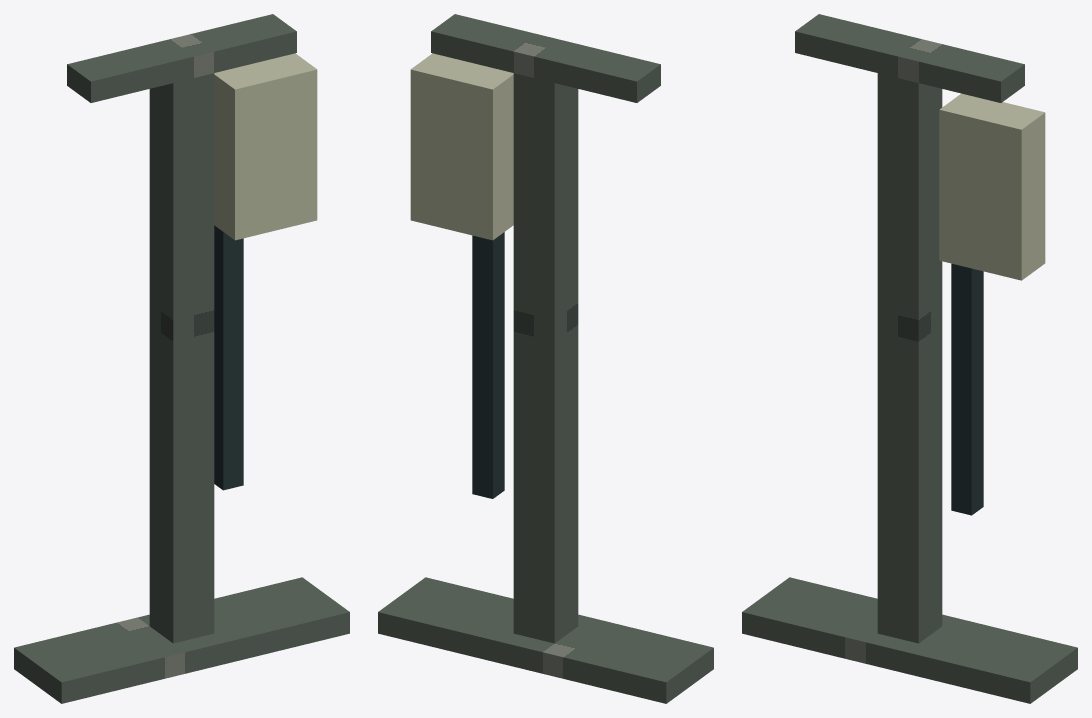
The model's file is iv_stand.gltf.
3 views of the same model, side by side, from view 1: azimuth 30°, elevation 25°; view 2: azimuth 150°, elevation 25°; view 3: azimuth 330°, elevation 25° (orthographic).
Visible parts, largest first — view 1: post, base, bag, hook, tube; view 2: post, base, bag, hook, tube; view 3: post, base, bag, hook, tube.
Part boxes in pixels (x1=…): post: x1=149, y1=73, x2=214, y2=643; base: x1=14, y1=577, x2=349, y2=703; bag: x1=214, y1=53, x2=317, y2=240; hook: x1=67, y1=14, x2=296, y2=102; tube: x1=214, y1=225, x2=243, y2=490; post: x1=513, y1=73, x2=578, y2=643; base: x1=378, y1=577, x2=713, y2=703; bag: x1=410, y1=53, x2=513, y2=240; hook: x1=431, y1=14, x2=660, y2=102; tube: x1=472, y1=232, x2=504, y2=498; post: x1=877, y1=73, x2=942, y2=643; base: x1=742, y1=577, x2=1077, y2=703; bag: x1=939, y1=93, x2=1045, y2=280; hook: x1=795, y1=14, x2=1024, y2=102; tube: x1=951, y1=263, x2=983, y2=515.
Bounding box in the file's own units: 0.875 × 1.75 × 0.25.
3 materials, 3 textured.
